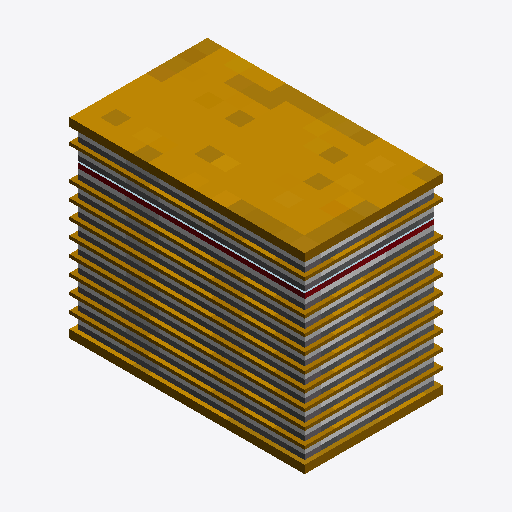
A Minecraft block model of 23 cuboids, rendered isometrically (azimuth 45°, elevation 35.3°) with the resource pack's own textures.
Visible parts, largest first — element 23, element 16, element 22, element 12, element 18, element 20, element 1, element 2, element 7, element 9, element 14, element 10 (+10 smaller).
Boxes of the visible parts, box(x1,y1,x2,y2) form: element 23: box(69, 38, 442, 261); element 16: box(78, 162, 433, 309); element 22: box(69, 324, 442, 473); element 12: box(78, 132, 433, 272); element 18: box(78, 188, 433, 328); element 20: box(78, 207, 433, 347); element 1: box(78, 319, 433, 459); element 2: box(78, 301, 433, 440); element 7: box(78, 263, 433, 403); element 9: box(78, 244, 433, 384); element 14: box(78, 151, 433, 290); element 10: box(78, 226, 433, 365).
Size of the model in its own units: 8.5 by 11.8 by 14.5.